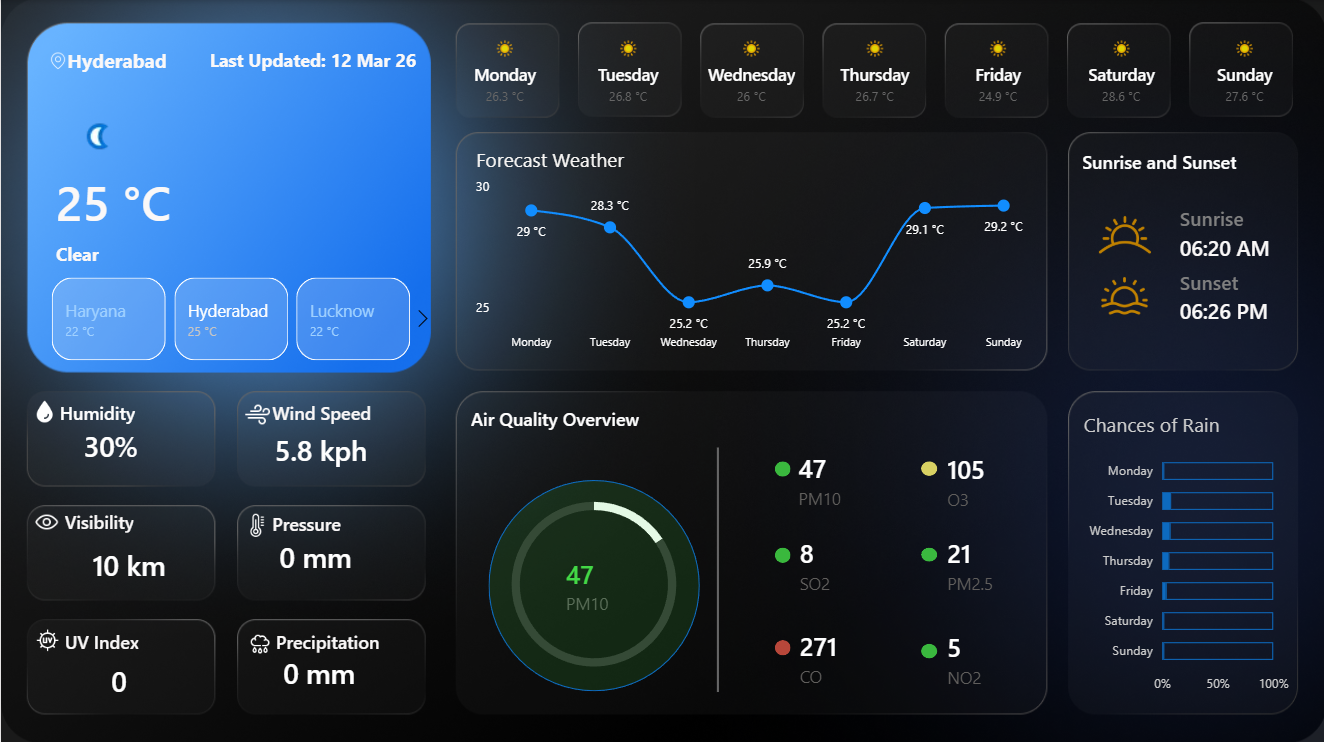

What the dashboard file says about the page in this screenshot:
{"tool":"powerbi","page":{"name":"Page 1","canvas":[1280,720],"ordinal":0},"visuals":[{"type":"advancedSlicerVisual","fields":{"Values":["Location.location.name"]},"box":[23.8,262.5,398.8,90],"z":0},{"type":"shape","box":[52.9,157.1,151.4,72.9],"z":1000},{"type":"shape","box":[52.9,217.1,301.4,54.3],"z":2000},{"type":"shape","box":[63.9,41,130.3,33.8],"z":3000},{"type":"shape","box":[194.2,41,213.5,33.8],"z":4000},{"type":"image","box":[47.1,45.8,15.7,25.3],"z":5000},{"type":"cardVisual","fields":{"Data":["Min(Current Data.current.condition.icon)"]},"box":[27.1,80,180,104.3],"z":6000},{"type":"image","box":[26.7,490.8,35,25.8],"z":7000},{"type":"shape","box":[61.7,486.7,130,34.2],"z":8000},{"type":"shape","box":[62,604.5,84,28],"z":9000},{"type":"shape","box":[56.7,383.3,121.7,28.3],"z":10000},{"type":"shape","box":[262,383.5,130,28.5],"z":11000},{"type":"shape","box":[262,491,92.5,29.5],"z":12000},{"type":"shape","box":[266,604.5,107,28],"z":13000},{"type":"image","box":[23.3,385.8,38.3,22.5],"z":14000},{"type":"image","box":[29.5,607,32.5,22.5],"z":15000},{"type":"image","box":[233.5,387.5,27,25.5],"z":16000},{"type":"image","box":[228,496,38,22],"z":17000},{"type":"image","box":[233.5,610,32.5,22.5],"z":18000},{"type":"cardVisual","fields":{"Data":["_measures.humidity"]},"box":[43,397,125,63],"z":19000},{"type":"cardVisual","fields":{"Data":["_measures.visibility_km"]},"box":[43.4,506.7,160.5,73.6],"z":20000},{"type":"cardVisual","fields":{"Data":["_measures.wind_speed"]},"box":[235.3,389.7,172.5,86.9],"z":21000},{"type":"cardVisual","fields":{"Data":["_measures.pressure_mm"]},"box":[234,504,139,64],"z":22000},{"type":"cardVisual","fields":{"Data":["Min(Current Data.current.uv)"]},"box":[48,621,131,68],"z":23000},{"type":"cardVisual","fields":{"Data":["_measures.precipitation_mm"]},"box":[243,618,129,61],"z":24000},{"type":"advancedSlicerVisual","fields":{"Values":["Forecast_Day.Day_name"]},"box":[425.9,14.5,839.7,105],"z":25000},{"type":"lineChart","title":"Forecast Weather","fields":{"Y":["Sum(Forecast_Day.forecast.forecastday.day.avgtemp_c)"],"Category":["Forecast_Day.Day_name"]},"box":[453.1,141.5,549.7,206.8],"z":26000},{"type":"shape","box":[1043.5,141.5,186.4,28.6],"z":27000},{"type":"shape","box":[1137.4,217.7,114.3,42.2],"z":28000},{"type":"shape","box":[1137.4,281.6,114.3,35.4],"z":29000},{"type":"shape","box":[1137.4,191.8,96.6,38.1],"z":30000},{"type":"shape","box":[1137.4,253.1,114.3,38.1],"z":31000},{"type":"image","box":[1037.5,193,94.1,67.6],"z":32000},{"type":"image","box":[1043.6,263,82,44.6],"z":33000},{"type":"hundredPercentStackedBarChart","title":"Chances of Rain","fields":{"Y":["CountNonNull(Forecast_Day.forecast.forecastday.day.daily_chance_of_rain)","_measures.Left_Value_rain"],"Category":["Forecast_Day.Day_name"]},"box":[1039.5,397.3,208.2,281.6],"z":34000},{"type":"shape","box":[453.1,389.1,186.4,28.6],"z":35000},{"type":"cardVisual","fields":{"Data":["Min(Forecast_Day.forecast.forecastday.day.air_quality.o3)"]},"box":[884.4,421.8,108.8,85.7],"z":36000},{"type":"cardVisual","fields":{"Data":["Min(Forecast_Day.forecast.forecastday.day.air_quality.pm2_5)"]},"box":[884.4,503.4,108.8,85.7],"z":37000},{"type":"cardVisual","fields":{"Data":["Min(Forecast_Day.forecast.forecastday.day.air_quality.no2)"]},"box":[884.6,592.3,108.5,88.5],"z":38000},{"type":"cardVisual","fields":{"Data":["Min(Current Data.current.air_quality.pm10)"]},"box":[740.8,421.5,108.5,85.4],"z":39000},{"type":"cardVisual","fields":{"Data":["Min(Forecast_Day.forecast.forecastday.day.air_quality.so2)"]},"box":[741.5,503.1,108.5,85.4],"z":40000},{"type":"cardVisual","fields":{"Data":["Min(Forecast_Day.forecast.forecastday.day.air_quality.co)"]},"box":[742.3,592.3,108.5,86.2],"z":41000},{"type":"shape","box":[747.3,617.7,15.5,15],"z":42000},{"type":"shape","box":[656.2,432.5,71.2,236.2],"z":43000},{"type":"shape","box":[747.3,528.2,15.5,15],"z":44000},{"type":"shape","box":[1160,859.5,15.5,15],"z":45000},{"type":"shape","box":[747.3,445,15.5,15],"z":46000},{"type":"shape","box":[888.1,445.8,15.8,14.2],"z":47000},{"type":"shape","box":[888.5,528.1,15.8,13.8],"z":48000},{"type":"shape","box":[888.1,621.2,15.8,14.2],"z":49000},{"type":"cardVisual","fields":{"Data":["Min(Current Data.current.air_quality.pm10)"]},"box":[516.4,521.2,109.8,89.3],"z":50000},{"type":"donutChart","fields":{"Y":["Min(Current Data.current.air_quality.pm10)","_measures.Left_value_PM10"]},"box":[453.6,459.7,237.7,208.7],"z":51000},{"type":"shape","box":[470.5,463.3,203.9,203.9],"z":52000}]}

Visuals, with their boxes in screenshot pixels (x1, y1, x2, y2), scaled from the page's 1280x720 canvas onto the 1324x742 screenshot:
advancedSlicerVisual - Location.location.name: rect(25, 271, 437, 363)
shape: rect(55, 162, 211, 237)
shape: rect(55, 224, 366, 280)
shape: rect(66, 42, 201, 77)
shape: rect(201, 42, 422, 77)
image: rect(49, 47, 65, 73)
cardVisual - Min(Current Data.current.condition.icon): rect(28, 82, 214, 190)
image: rect(28, 506, 64, 532)
shape: rect(64, 502, 198, 537)
shape: rect(64, 623, 151, 652)
shape: rect(59, 395, 185, 424)
shape: rect(271, 395, 405, 425)
shape: rect(271, 506, 367, 536)
shape: rect(275, 623, 386, 652)
image: rect(24, 398, 64, 421)
image: rect(31, 626, 64, 649)
image: rect(242, 399, 269, 426)
image: rect(236, 511, 275, 534)
image: rect(242, 629, 275, 652)
cardVisual - _measures.humidity: rect(44, 409, 174, 474)
cardVisual - _measures.visibility_km: rect(45, 522, 211, 598)
cardVisual - _measures.wind_speed: rect(243, 402, 422, 491)
cardVisual - _measures.pressure_mm: rect(242, 519, 386, 585)
cardVisual - Min(Current Data.current.uv): rect(50, 640, 185, 710)
cardVisual - _measures.precipitation_mm: rect(251, 637, 385, 700)
advancedSlicerVisual - Forecast_Day.Day_name: rect(441, 15, 1309, 123)
"Forecast Weather" lineChart: rect(469, 146, 1037, 359)
shape: rect(1079, 146, 1272, 175)
shape: rect(1176, 224, 1295, 268)
shape: rect(1176, 290, 1295, 327)
shape: rect(1176, 198, 1276, 237)
shape: rect(1176, 261, 1295, 300)
image: rect(1073, 199, 1170, 269)
image: rect(1079, 271, 1164, 317)
"Chances of Rain" hundredPercentStackedBarChart: rect(1075, 409, 1291, 700)
shape: rect(469, 401, 661, 430)
cardVisual - Min(Forecast_Day.forecast.forecastday.day.air_quality.o3): rect(915, 435, 1027, 523)
cardVisual - Min(Forecast_Day.forecast.forecastday.day.air_quality.pm2_5): rect(915, 519, 1027, 607)
cardVisual - Min(Forecast_Day.forecast.forecastday.day.air_quality.no2): rect(915, 610, 1027, 702)
cardVisual - Min(Current Data.current.air_quality.pm10): rect(766, 434, 878, 522)
cardVisual - Min(Forecast_Day.forecast.forecastday.day.air_quality.so2): rect(767, 518, 879, 606)
cardVisual - Min(Forecast_Day.forecast.forecastday.day.air_quality.co): rect(768, 610, 880, 699)
shape: rect(773, 637, 789, 652)
shape: rect(679, 446, 752, 689)
shape: rect(773, 544, 789, 560)
shape: rect(773, 459, 789, 474)
shape: rect(919, 459, 935, 474)
shape: rect(919, 544, 935, 558)
shape: rect(919, 640, 935, 655)
cardVisual - Min(Current Data.current.air_quality.pm10): rect(534, 537, 648, 629)
donutChart - Min(Current Data.current.air_quality.pm10) x _measures.Left_value_PM10: rect(469, 474, 715, 689)
shape: rect(487, 477, 698, 688)
